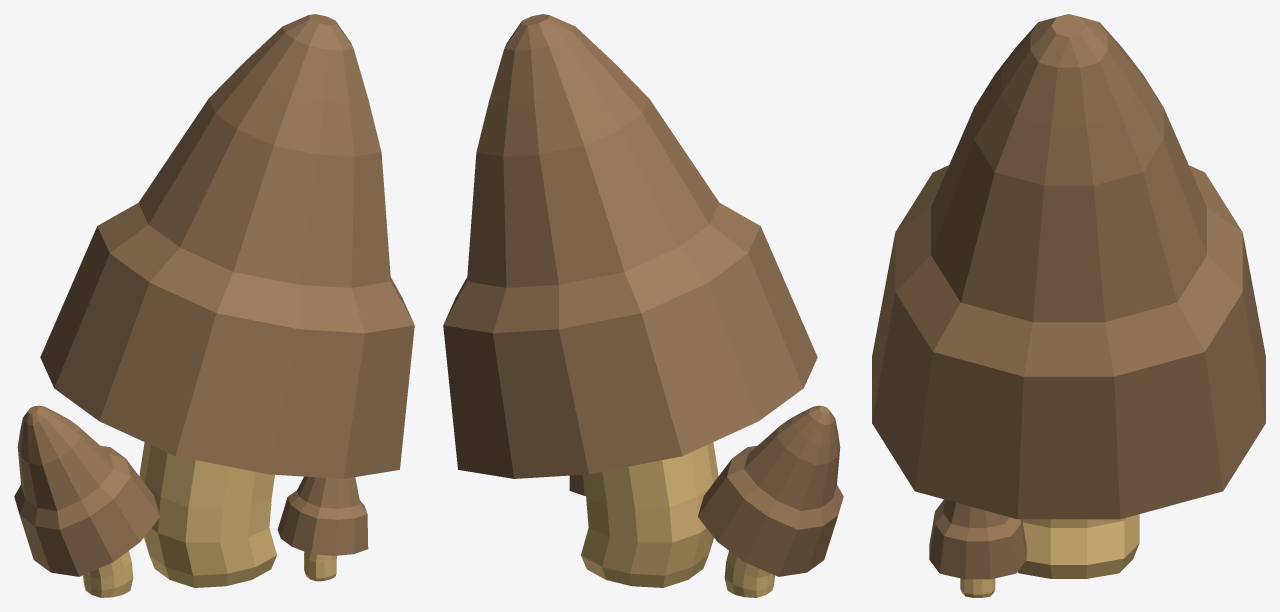
File: Mushroom3.2.fbx
3 renders of one model, left to right at view 1: azimuth 30°, elevation 25°; view 2: azimuth 150°, elevation 25°; view 3: azimuth 270°, elevation 25°, orthographic. The views are drawn at different scales.
Visible parts, largest first — view 1: Mushroom3.2; view 2: Mushroom3.2; view 3: Mushroom3.2.
Part boxes in pixels (left/top/right/bottom): Mushroom3.2: left=14, top=14, right=414, bottom=597; Mushroom3.2: left=443, top=14, right=843, bottom=597; Mushroom3.2: left=872, top=14, right=1265, bottom=597.
Bounding box in the file's own units: 153 × 212 × 127.
